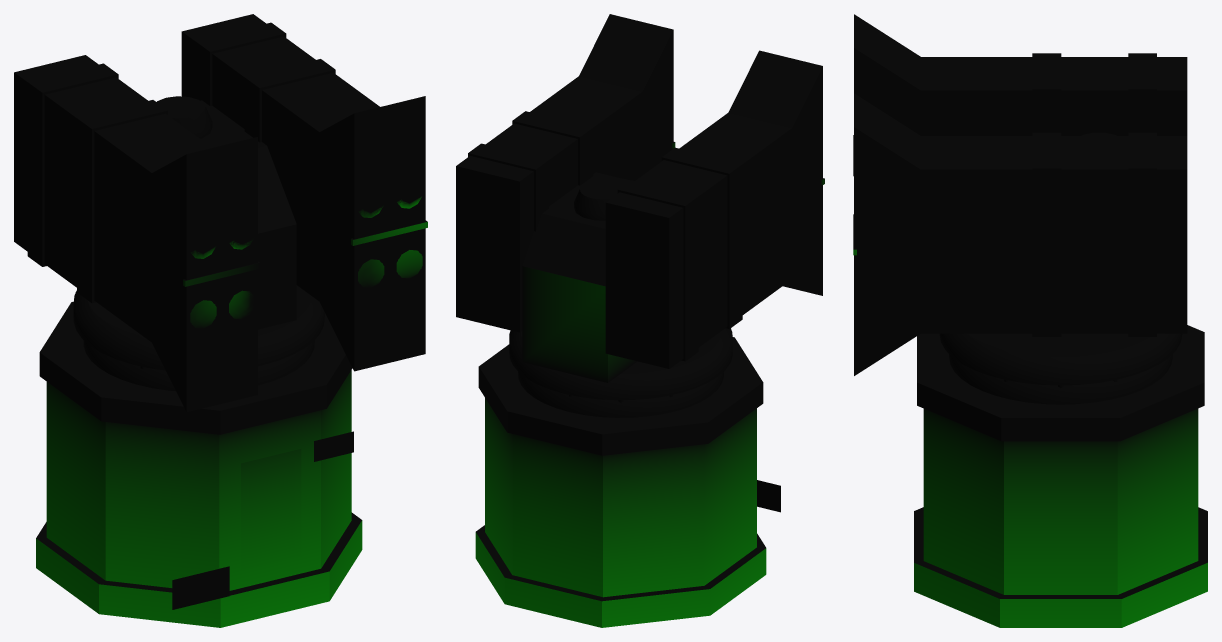
File: lrmturret.glb
3 renders of one model, left to right at view 1: azimuth 30°, elevation 25°; view 2: azimuth 150°, elevation 25°; view 3: azimuth 270°, elevation 25°, orthographic. The views are drawn at different scales.
Visible parts, largest first — view 1: lod0_Gun, lod0_Base, lod0_Turret, lod1_Gun, lod1_Turret; view 2: lod0_Gun, lod0_Base, lod0_Turret, lod1_Turret; view 3: lod0_Gun, lod0_Base, lod0_Turret, lod1_Turret.
Part boxes in pixels (<box>): lod0_Gun: <box>14,14,427,412</box>; lod0_Base: <box>36,301,362,627</box>; lod0_Turret: <box>73,96,324,370</box>; lod1_Gun: <box>191,122,421,387</box>; lod1_Turret: <box>75,285,322,369</box>; lod0_Gun: <box>456,14,824,368</box>; lod0_Base: <box>475,337,780,627</box>; lod0_Turret: <box>509,172,732,400</box>; lod1_Turret: <box>510,328,731,400</box>; lod0_Gun: <box>853,14,1187,375</box>; lod0_Base: <box>914,325,1207,627</box>; lod0_Turret: <box>939,132,1182,385</box>; lod1_Turret: <box>941,333,1180,382</box>.
Size of the model in its own units: 4.6 by 8.55 by 5.55.
